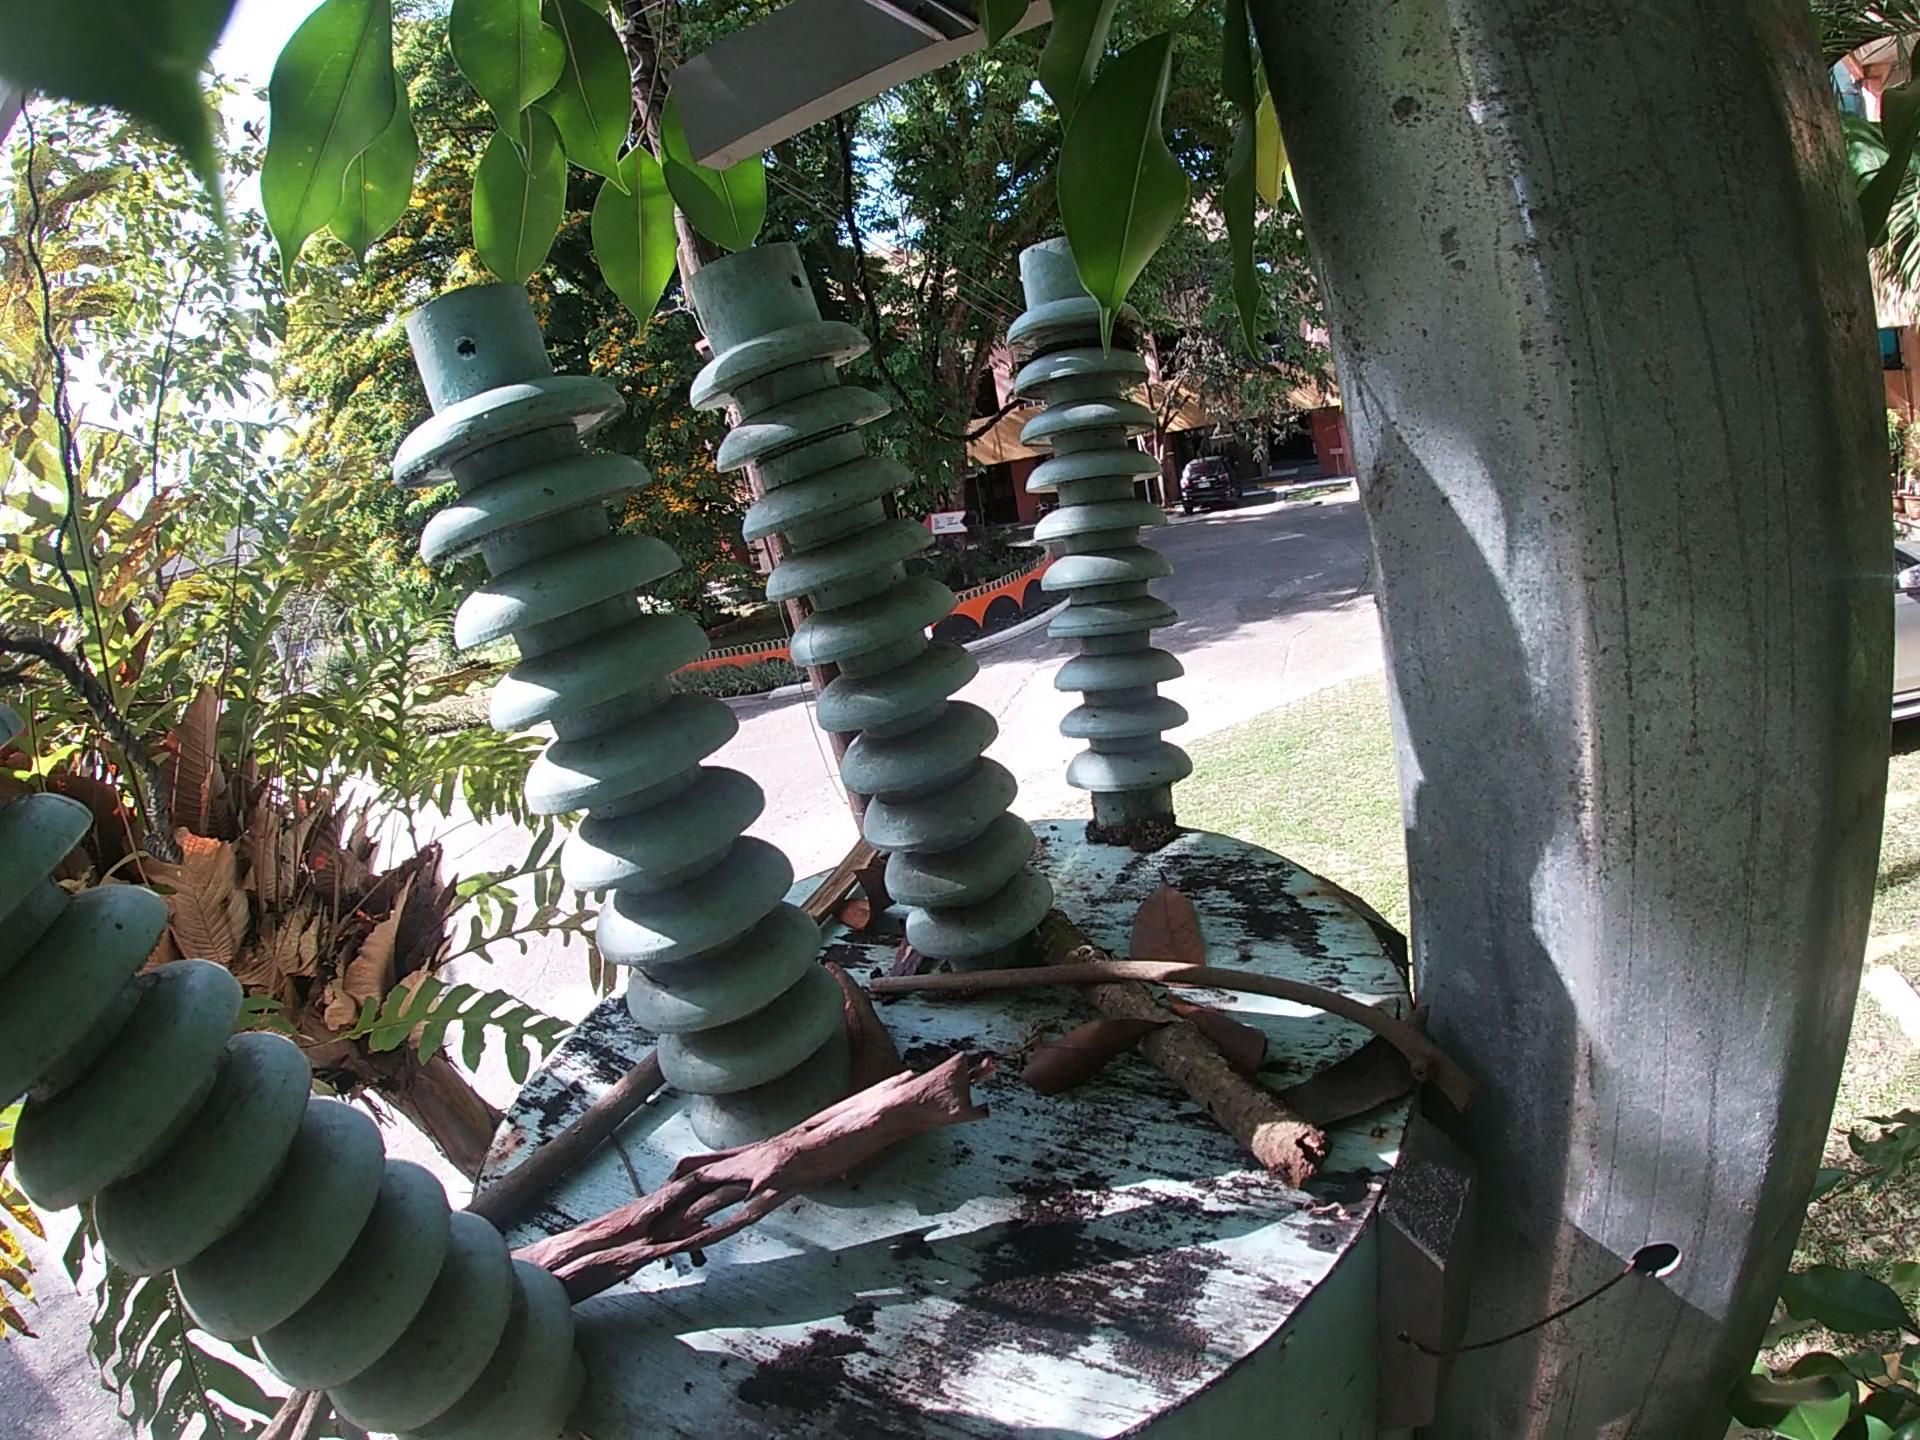leaf: (1277, 998, 1417, 1133), (1014, 1013, 1175, 1106), (1117, 868, 1223, 970), (1163, 988, 1277, 1078)
mahogany fruit: (825, 957, 912, 1206), (828, 852, 906, 947)
tree branch: (505, 1038, 1017, 1310), (874, 962, 1492, 1124), (1033, 898, 1346, 1204), (457, 1042, 674, 1239), (797, 835, 875, 936)
